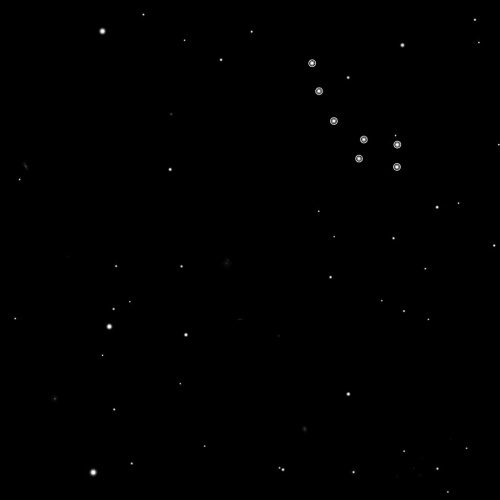ursa_minor: (300, 52, 408, 176)
